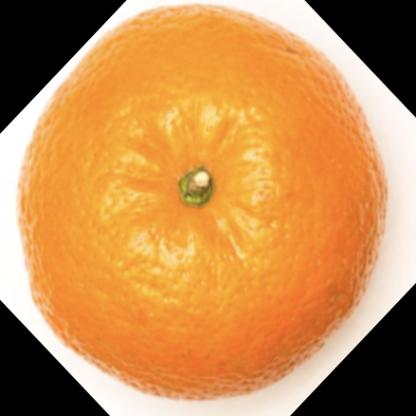fresh: (18, 7, 384, 399)
